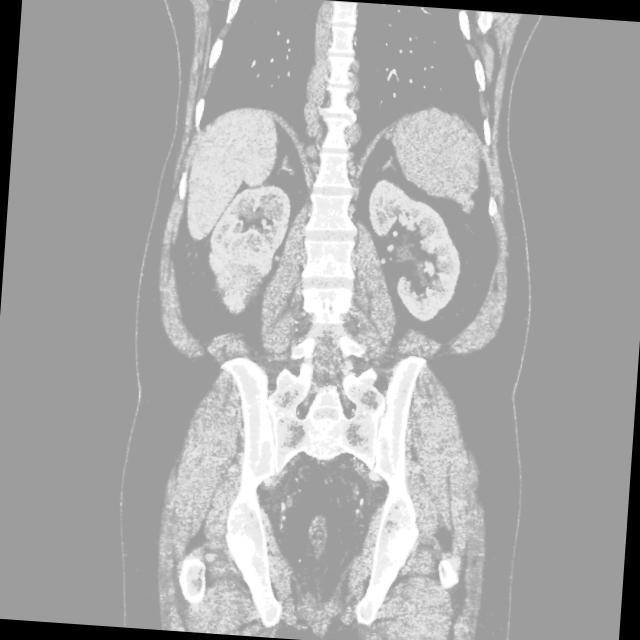TUMOR: (152, 114, 512, 314)
